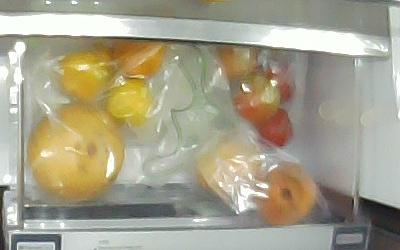peach_vinyl: (255, 162, 316, 226), (197, 140, 258, 189)
pear_vinyl: (27, 102, 124, 199)
tangerine_vinyl: (61, 52, 108, 101), (106, 80, 152, 128), (113, 42, 165, 80), (90, 44, 117, 77)
tomato_vinyl: (233, 74, 280, 125), (256, 107, 293, 148), (258, 62, 295, 102), (217, 45, 256, 78)
